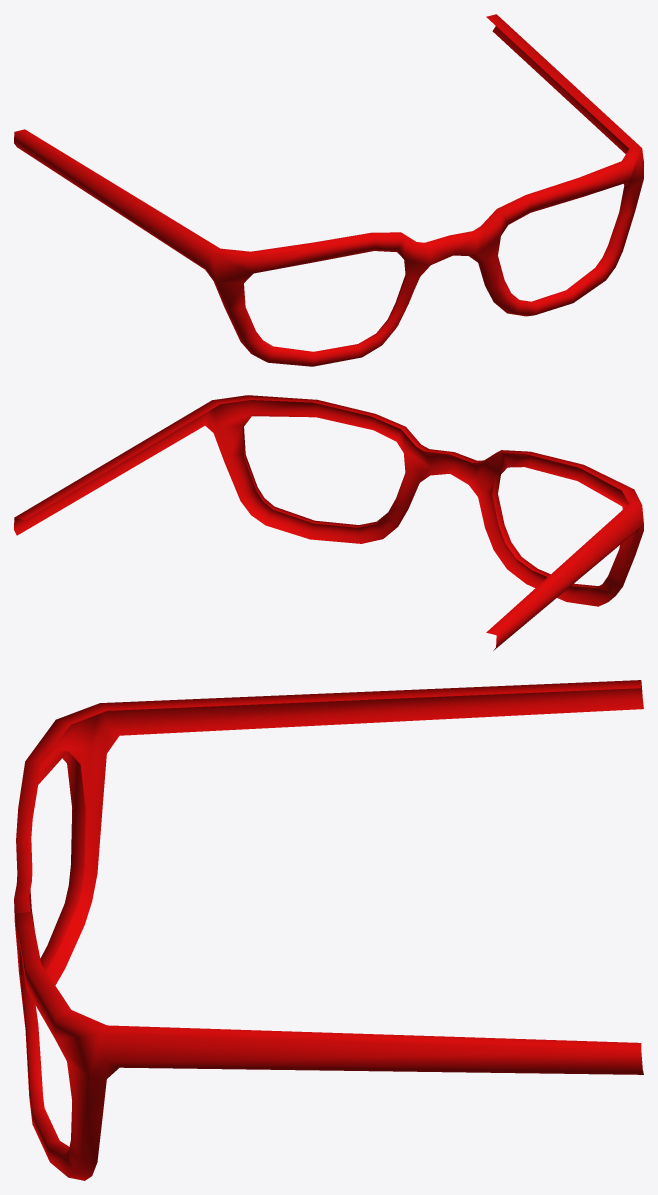
Rendered from _headwear_007.fbx.
The picture shows the model from 3 angles, top to bottom: view 1: azimuth 30°, elevation 25°; view 2: azimuth 150°, elevation 25°; view 3: azimuth 270°, elevation 25°; orthographic projection. The views are drawn at different scales.
Parts seen in each view (by area): view 1: f_headwear_007; view 2: f_headwear_007; view 3: f_headwear_007.
Boxes of the visible parts, left/top/right/bottom form: f_headwear_007: left=14, top=14, right=643, bottom=366; f_headwear_007: left=14, top=395, right=643, bottom=650; f_headwear_007: left=14, top=680, right=643, bottom=1180.
Bounding box in the file's own units: 14.55 × 3.76 × 10.44.
